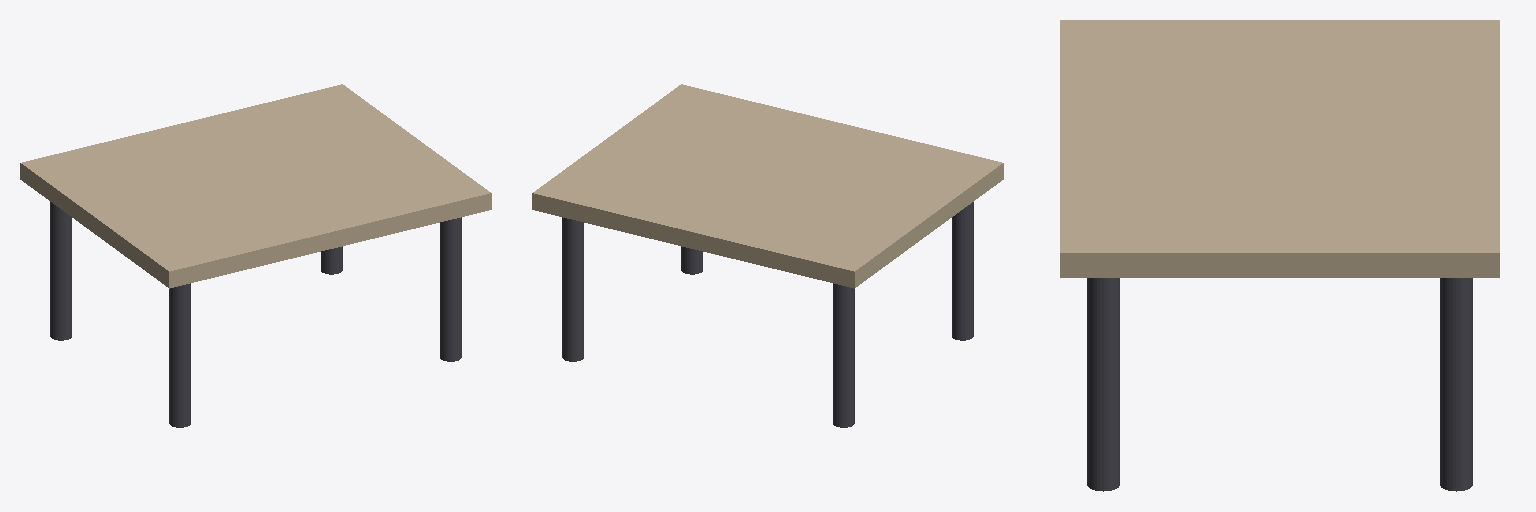
robot.urdf — foxglove_room:
<?xml version="1.0"?>
<!--
  Static-only ROS-side mirror of the "workcell" warehouse building and the arm's table
  (both spawned directly in worlds/foxglove_demo.sdf; see the comment there for the
  workcell's provenance/license). Gazebo world geometry isn't published on any ROS
  topic, so without this robot_description plus a "world" to "room_origin" static TF
  (see simulation.launch.py), Foxglove's 3D panel would never show them, only the
  camera image panels would, since those render Gazebo's actual scene directly.
-->
<robot name="foxglove_room">
  <link name="room_origin">
    <visual name="workcell">
      <origin xyz="0 0 0" rpy="0 0 0"/>
      <geometry>
        <mesh filename="package://fg_gazebo_example/models/workcell/meshes/mesh.dae"/>
      </geometry>
    </visual>
    <visual name="arm_table_top">
      <origin xyz="1.0 -3.5 0.475" rpy="0 0 0"/>
      <geometry><box size="1.0 0.8 0.05"/></geometry>
      <material name="arm_table_top"><color rgba="0.78 0.72 0.62 1"/></material>
    </visual>
    <visual name="arm_table_leg_1">
      <origin xyz="1.42 -3.18 0.225" rpy="0 0 0"/>
      <geometry><cylinder radius="0.03" length="0.45"/></geometry>
      <material name="arm_table_leg"><color rgba="0.35 0.35 0.38 1"/></material>
    </visual>
    <visual name="arm_table_leg_2">
      <origin xyz="1.42 -3.82 0.225" rpy="0 0 0"/>
      <geometry><cylinder radius="0.03" length="0.45"/></geometry>
      <material name="arm_table_leg"><color rgba="0.35 0.35 0.38 1"/></material>
    </visual>
    <visual name="arm_table_leg_3">
      <origin xyz="0.58 -3.18 0.225" rpy="0 0 0"/>
      <geometry><cylinder radius="0.03" length="0.45"/></geometry>
      <material name="arm_table_leg"><color rgba="0.35 0.35 0.38 1"/></material>
    </visual>
    <visual name="arm_table_leg_4">
      <origin xyz="0.58 -3.82 0.225" rpy="0 0 0"/>
      <geometry><cylinder radius="0.03" length="0.45"/></geometry>
      <material name="arm_table_leg"><color rgba="0.35 0.35 0.38 1"/></material>
    </visual>
  </link>
</robot>

--- Facts derived from the render (not from the file) ---
3 views of the same robot in one strip: view 1: azimuth 30°, elevation 25°; view 2: azimuth 150°, elevation 25°; view 3: azimuth 270°, elevation 25° (orthographic).
Model foxglove_room with 1 links and 0 joints (none), rooted at room_origin, posed all joints at 0.
Visible links, largest first — view 1: room_origin; view 2: room_origin; view 3: room_origin.
Boxes of the visible links, bbox=[...] form: room_origin: bbox=[20, 84, 491, 427]; room_origin: bbox=[532, 84, 1003, 427]; room_origin: bbox=[1060, 20, 1499, 491].
Size in the robot's own frame: 1 by 0.8 by 0.5 metres.
Meshes: 1 distinct files referenced, 0 mesh visuals loaded (none loaded); not drawn: 1 (reference not matched to a file when rendering).
